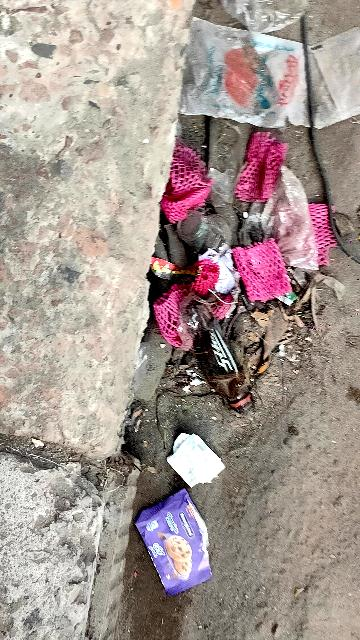bottle: (183, 313, 264, 415)
